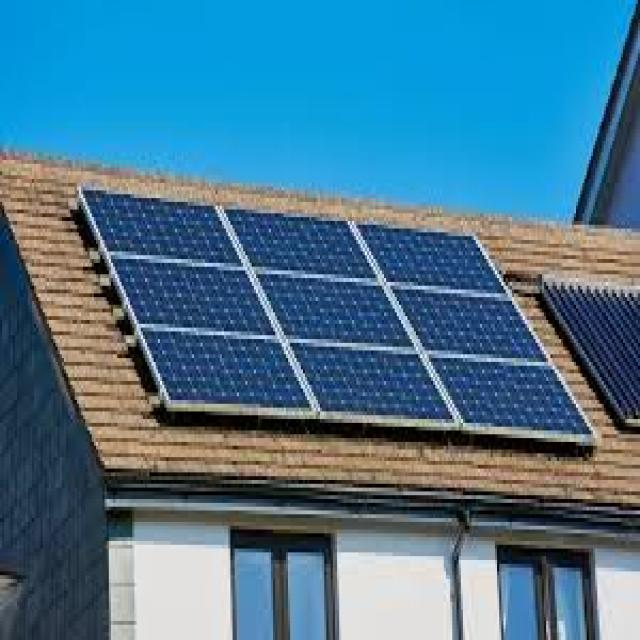clean-solar-panel: (79, 193, 591, 443)
